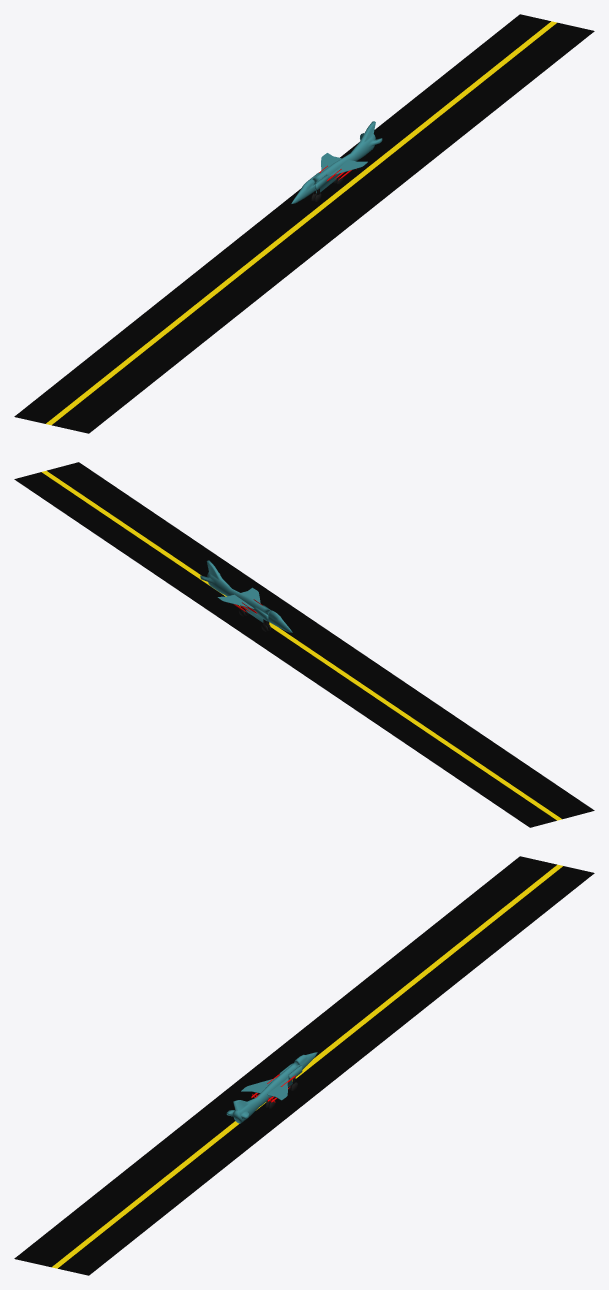
File: Aéroport.glb
3 views of the same model, one above another, from view 1: azimuth 90°, elevation 25°; view 2: azimuth 150°, elevation 25°; view 3: azimuth 270°, elevation 25° (orthographic). The views are drawn at different scales.
Parts seen in each view (by area): view 1: Aéroport; view 2: Aéroport; view 3: Aéroport.
Boxes of the visible parts, x1,y1,x2,y2 form: Aéroport: (14,14,594,433); Aéroport: (14,462,594,827); Aéroport: (14,856,594,1275).
Size of the model in its own units: 3.77 by 0.1432 by 2.21.
